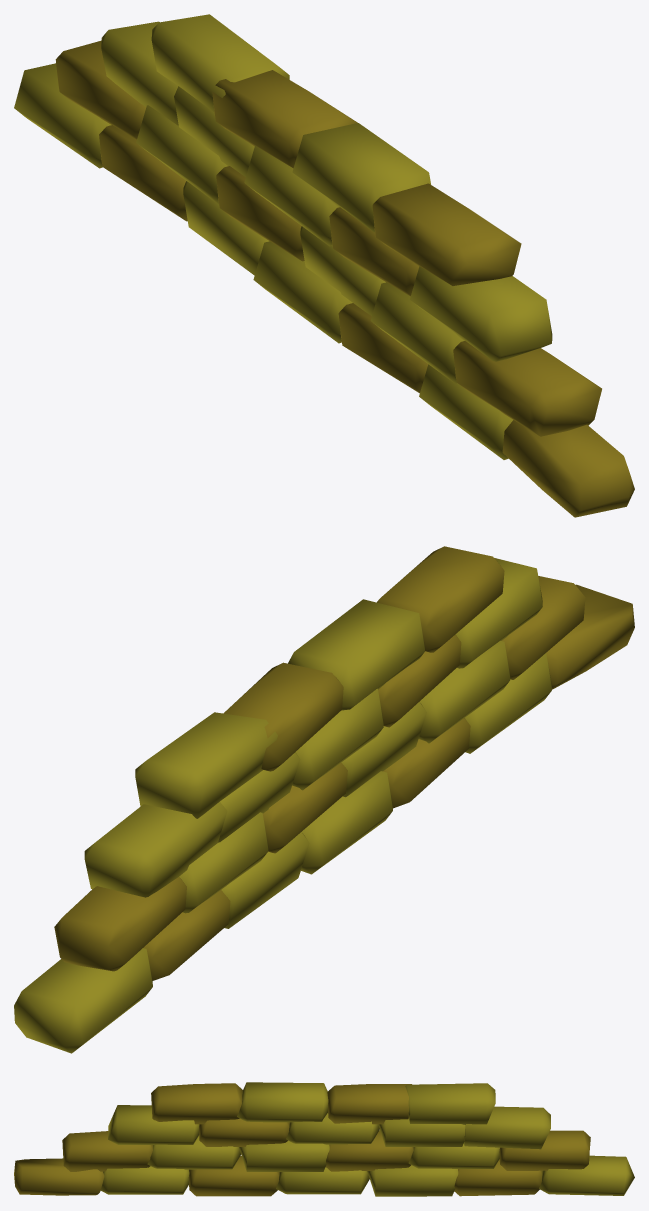
File: ds_barrier.glb
3 renders of one model, top to bottom at view 1: azimuth 30°, elevation 25°; view 2: azimuth 150°, elevation 25°; view 3: azimuth 270°, elevation 25°, orthographic. The views are drawn at different scales.
Parts seen in each view (by area): view 1: ds_barrier; view 2: ds_barrier; view 3: ds_barrier.
Part boxes in pixels (x1,y1,x2,y2): ds_barrier: [14, 14, 634, 517]; ds_barrier: [14, 546, 634, 1053]; ds_barrier: [14, 1082, 634, 1196].
Size of the model in its own units: 0.476 by 1.07 by 5.86.
